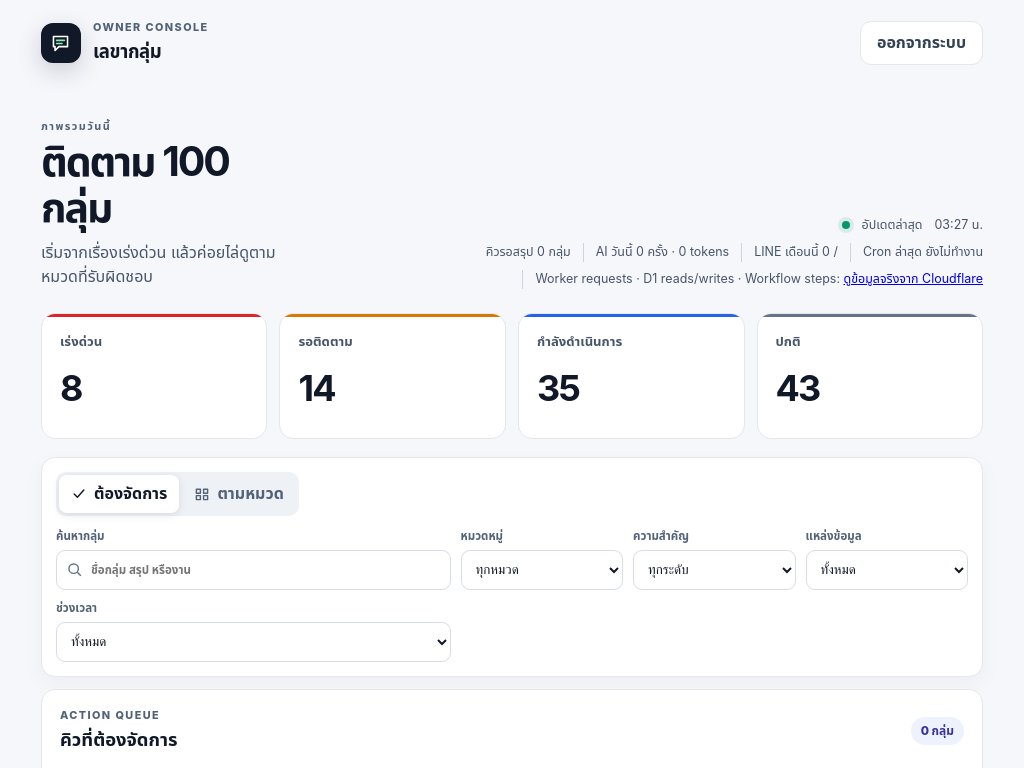
Test: owner login › logs out and returns to the password screen
The width and height of the screenshot is (1024, 768).
Click the button "ออกจากระบบ" at {"x": 922, "y": 43}, box [860,21,983,65]
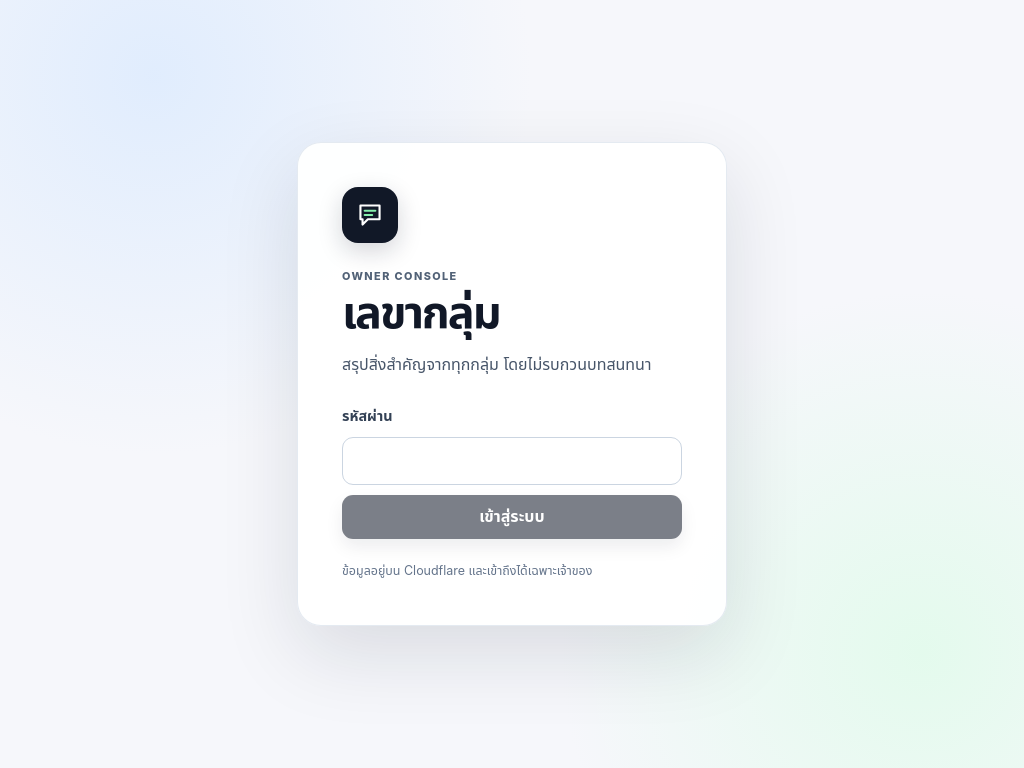
Expected: the password field labelled "รหัสผ่าน" is shown, [342,437,682,485]
